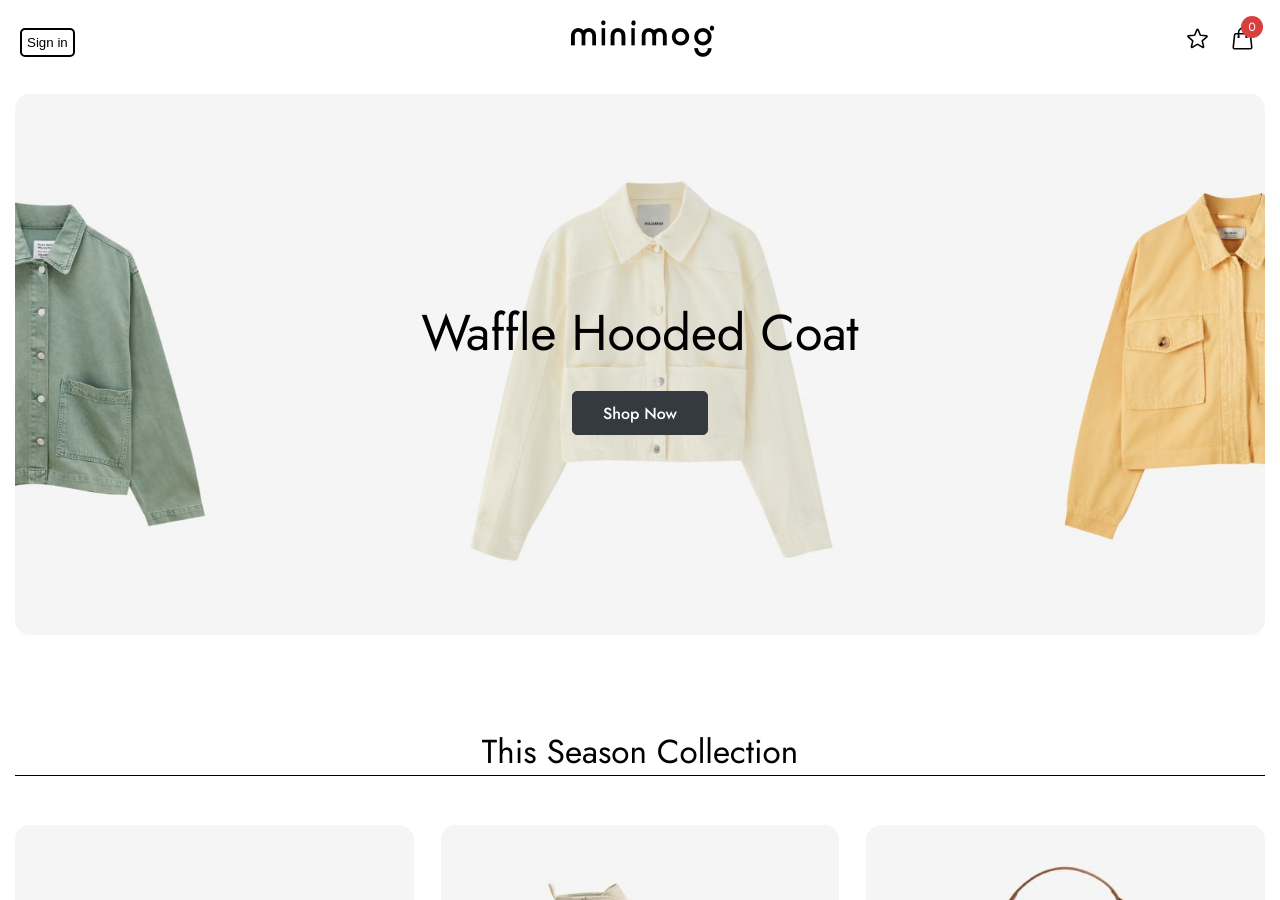
Scenario: AppRouterTest › Wish test
Click the link with test id "header-wish".
click(1198, 42)  # box [1175, 26, 1220, 58]
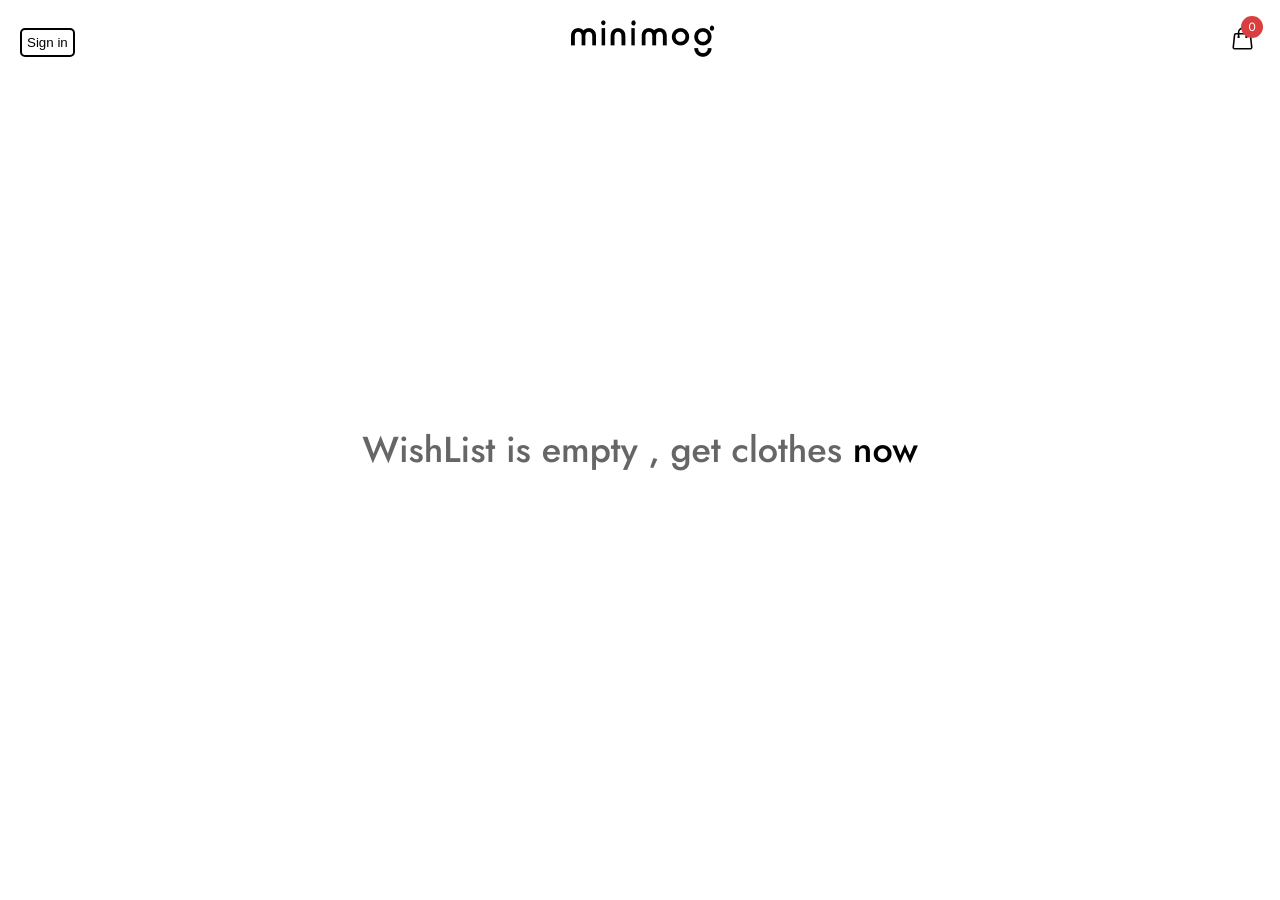
Expected: the heading "WishList is empty , get clothes now" is shown, [362, 423, 918, 477]
